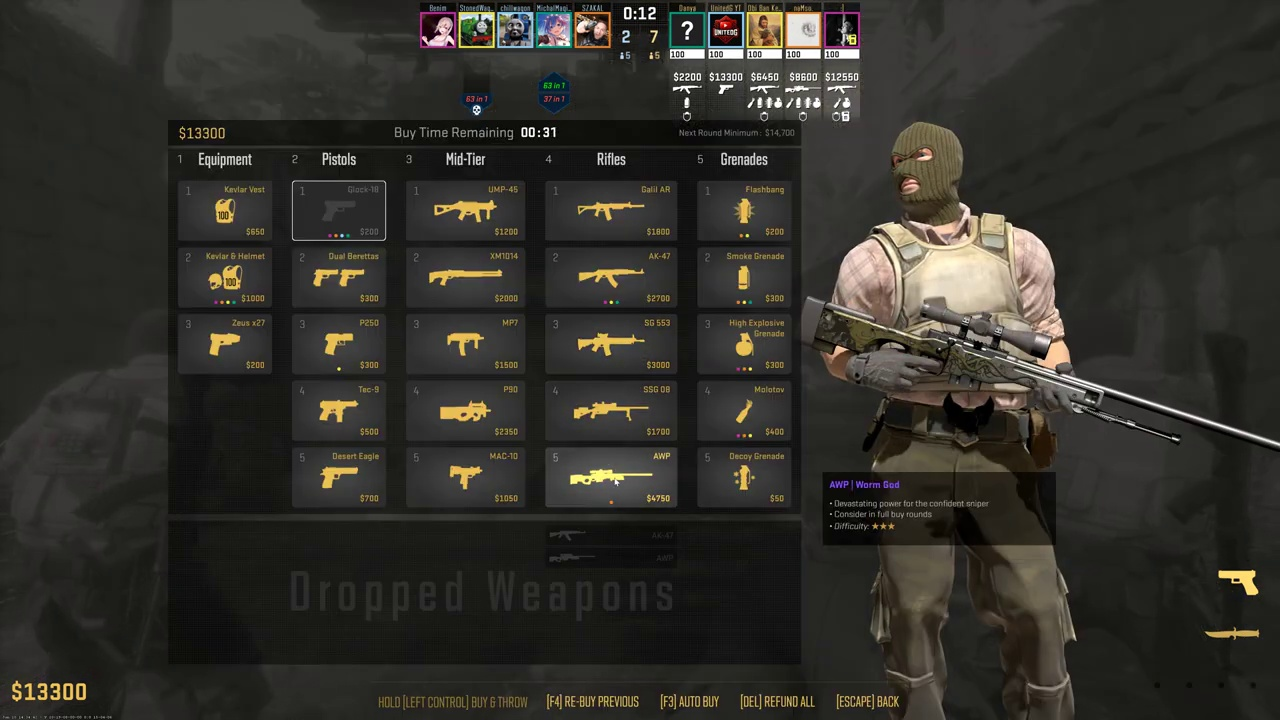Terrorist: (850, 126, 1074, 720)
